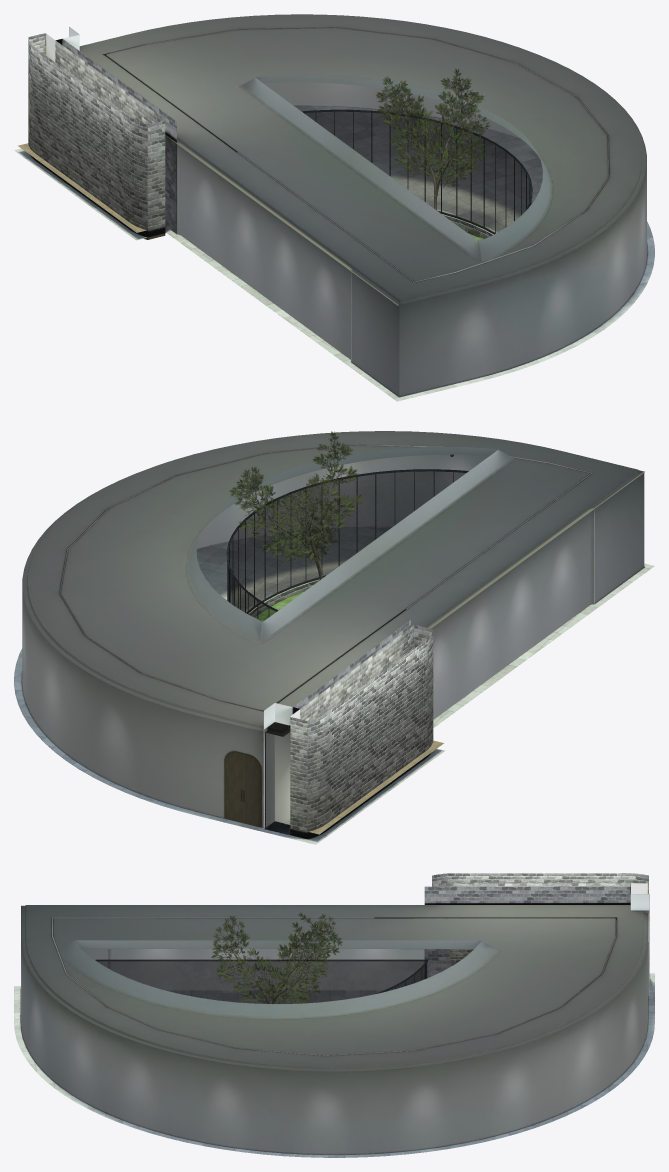
File: room4.glb
3 views of the same model, one above another, from view 1: azimuth 30°, elevation 25°; view 2: azimuth 150°, elevation 25°; view 3: azimuth 270°, elevation 25° (orthographic). The views are drawn at different scales.
Parts seen in each view (by area): view 1: Ceiling_Baked, Wall2_Baked, Wall1_Baked, Floor_Baked, Glass_Baked, Leaves_Baked, GlassBase_Baked, SpotLightBeam_Baked, Decor_Baked; view 2: Ceiling_Baked, Wall1_Baked, Wall2_Baked, Floor_Baked, Glass_Baked, Leaves_Baked, GlassBase_Baked, Door_Baked, SpotLightBeam_Baked, Decor_Baked; view 3: Ceiling_Baked, Wall1_Baked, Wall2_Baked, Glass_Baked, Leaves_Baked, Floor_Baked, SpotLightBeam_Baked, GlassBase_Baked.
Part boxes in pixels (x1,y1,x2,y2): Ceiling_Baked: (79, 14, 646, 305); Wall2_Baked: (28, 27, 351, 361); Wall1_Baked: (263, 82, 647, 397); Floor_Baked: (14, 106, 654, 401); Glass_Baked: (304, 112, 530, 232); Leaves_Baked: (376, 68, 490, 187); GlassBase_Baked: (302, 109, 532, 234); SpotLightBeam_Baked: (103, 27, 609, 282); Decor_Baked: (18, 143, 146, 232); Ceiling_Baked: (22, 431, 644, 736); Wall1_Baked: (21, 454, 644, 828); Wall2_Baked: (263, 509, 594, 839); Floor_Baked: (14, 527, 654, 844); Glass_Baked: (228, 471, 465, 620); Leaves_Baked: (229, 431, 364, 563); GlassBase_Baked: (226, 469, 468, 618); Door_Baked: (224, 751, 261, 827); SpotLightBeam_Baked: (59, 444, 593, 710); Decor_Baked: (289, 740, 443, 834); Ceiling_Baked: (21, 905, 647, 1071); Wall1_Baked: (20, 939, 648, 1154); Wall2_Baked: (108, 873, 649, 996); Glass_Baked: (98, 961, 426, 1003); Leaves_Baked: (211, 912, 342, 1003); Floor_Baked: (14, 973, 654, 1157); SpotLightBeam_Baked: (52, 917, 616, 1055); GlassBase_Baked: (95, 959, 427, 994).
Bounding box in the file's own units: 22.95 × 9.73 × 33.6.
14 materials, 14 textured.
